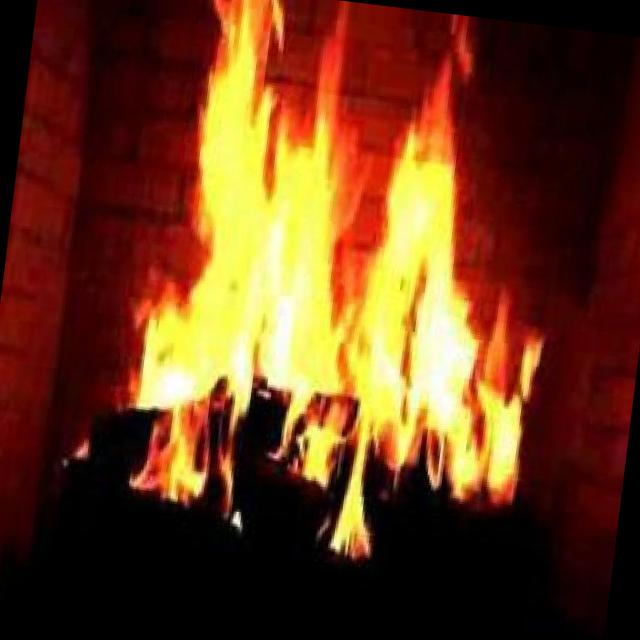Fire: (39, 0, 589, 585)
